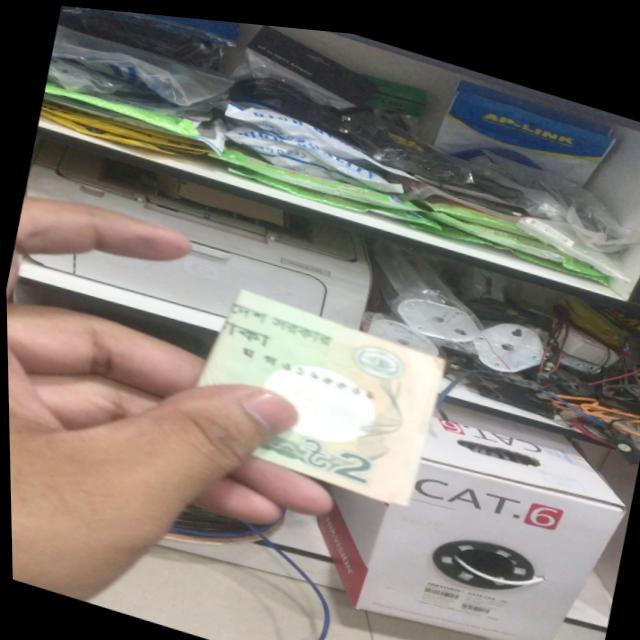Taka: (191, 273, 444, 504)
